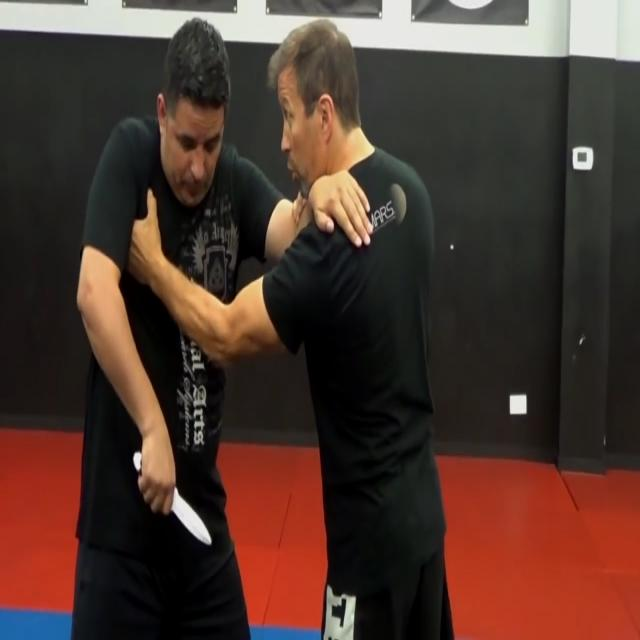knife: (172, 485, 217, 553)
